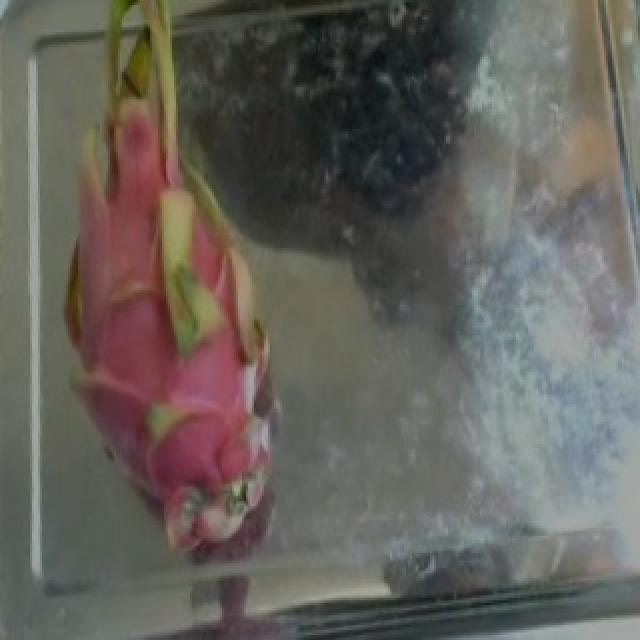fruit: (20, 5, 286, 427)
